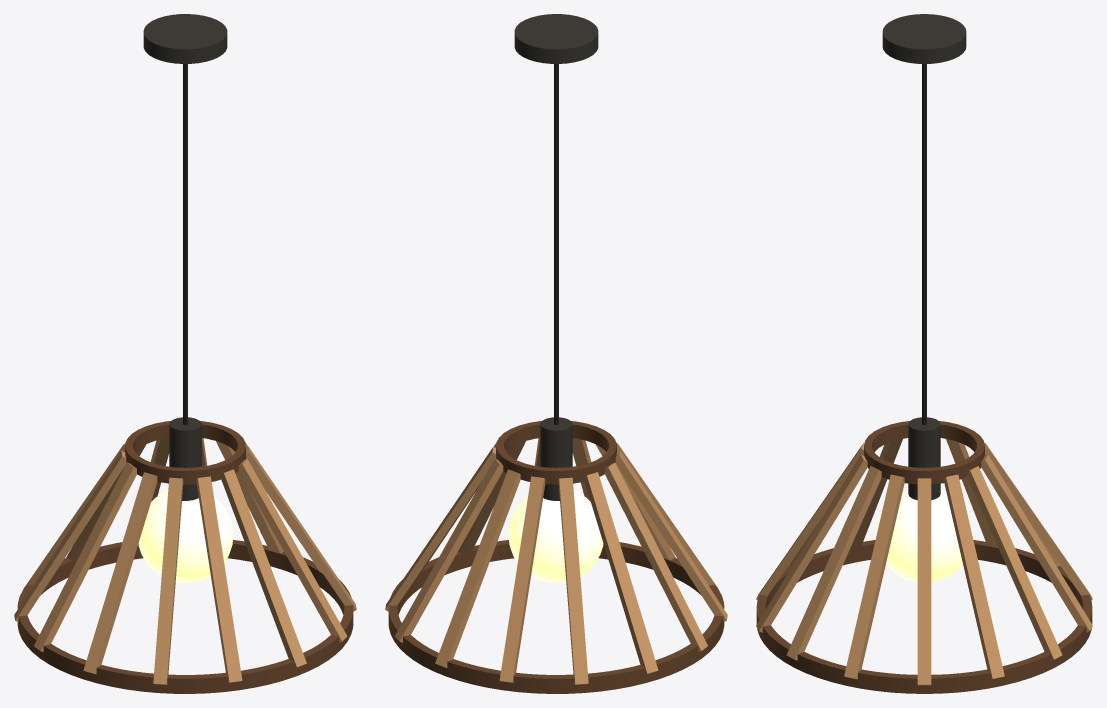
Rendered from light-dining-cedar-pendant.gltf.
The picture shows the model from 3 angles, left to right: view 1: azimuth 30°, elevation 25°; view 2: azimuth 150°, elevation 25°; view 3: azimuth 270°, elevation 25°; orthographic projection.
Parts seen in each view (by area): view 1: Dining cedar pendant lower rim, Dining cedar pendant warm diffuser, Dining cedar pendant ceiling rose, Dining cedar pendant top rim, Dining cedar pendant shade slat 08, Dining cedar pendant shade slat 11, Dining cedar pendant shade slat 10, Dining cedar pendant shade slat 09, Dining cedar pendant shade slat 07, Dining cedar pendant shade slat 12, Dining cedar pendant shade slat 06, Dining cedar pendant shade slat 13 (+5 smaller); view 2: Dining cedar pendant lower rim, Dining cedar pendant warm diffuser, Dining cedar pendant ceiling rose, Dining cedar pendant top rim, Dining cedar pendant shade slat 06, Dining cedar pendant shade slat 03, Dining cedar pendant shade slat 04, Dining cedar pendant shade slat 05, Dining cedar pendant shade slat 07, Dining cedar pendant shade slat 02, Dining cedar pendant shade slat 08, Dining cedar pendant shade slat 01 (+5 smaller); view 3: Dining cedar pendant lower rim, Dining cedar pendant warm diffuser, Dining cedar pendant ceiling rose, Dining cedar pendant top rim, Dining cedar pendant shade slat 01, Dining cedar pendant shade slat 13, Dining cedar pendant shade slat 02, Dining cedar pendant shade slat 12, Dining cedar pendant shade slat 00, Dining cedar pendant shade slat 03, Dining cedar pendant shade slat 11, Dining cedar pendant socket (+5 smaller).
Boxes of the visible parts, left/top/right/bottom form: Dining cedar pendant lower rim: left=17, top=540, right=353, bottom=693; Dining cedar pendant warm diffuser: left=138, top=490, right=233, bottom=583; Dining cedar pendant ceiling rose: left=143, top=14, right=227, bottom=63; Dining cedar pendant top rim: left=125, top=421, right=245, bottom=484; Dining cedar pendant shade slat 08: left=83, top=472, right=157, bottom=674; Dining cedar pendant shade slat 11: left=221, top=469, right=306, bottom=667; Dining cedar pendant shade slat 10: left=196, top=476, right=242, bottom=682; Dining cedar pendant shade slat 09: left=153, top=477, right=183, bottom=684; Dining cedar pendant shade slat 07: left=34, top=462, right=136, bottom=651; Dining cedar pendant shade slat 12: left=238, top=459, right=347, bottom=642; Dining cedar pendant shade slat 06: left=14, top=450, right=126, bottom=622; Dining cedar pendant shade slat 13: left=246, top=446, right=356, bottom=611; Dining cedar pendant lower rim: left=388, top=540, right=724, bottom=693; Dining cedar pendant warm diffuser: left=508, top=490, right=603, bottom=583; Dining cedar pendant ceiling rose: left=514, top=14, right=598, bottom=63; Dining cedar pendant top rim: left=496, top=421, right=616, bottom=484; Dining cedar pendant shade slat 06: left=584, top=472, right=658, bottom=674; Dining cedar pendant shade slat 03: left=435, top=469, right=520, bottom=667; Dining cedar pendant shade slat 04: left=499, top=476, right=545, bottom=682; Dining cedar pendant shade slat 05: left=558, top=477, right=588, bottom=684; Dining cedar pendant shade slat 07: left=605, top=462, right=707, bottom=651; Dining cedar pendant shade slat 02: left=394, top=459, right=503, bottom=642; Dining cedar pendant shade slat 08: left=615, top=450, right=727, bottom=622; Dining cedar pendant shade slat 01: left=385, top=446, right=495, bottom=611; Dining cedar pendant lower rim: left=756, top=540, right=1092, bottom=693; Dining cedar pendant warm diffuser: left=876, top=490, right=972, bottom=582; Dining cedar pendant ceiling rose: left=882, top=14, right=966, bottom=63; Dining cedar pendant top rim: left=864, top=421, right=984, bottom=484; Dining cedar pendant shade slat 01: left=944, top=474, right=1004, bottom=679; Dining cedar pendant shade slat 13: left=844, top=474, right=904, bottom=679; Dining cedar pendant shade slat 02: left=967, top=466, right=1062, bottom=660; Dining cedar pendant shade slat 12: left=786, top=466, right=881, bottom=660; Dining cedar pendant shade slat 00: left=917, top=478, right=931, bottom=685; Dining cedar pendant shade slat 03: left=981, top=455, right=1092, bottom=632; Dining cedar pendant shade slat 11: left=756, top=455, right=867, bottom=632; Dining cedar pendant socket: left=908, top=417, right=940, bottom=500.
Bounding box in the file's own units: 0.5303 × 1.01 × 0.5216.
